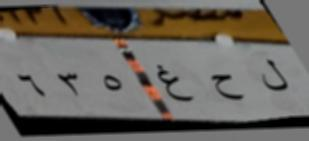3: (55, 66, 82, 105)
5: (101, 69, 123, 95)
6: (15, 70, 48, 103)
7aa: (210, 70, 248, 108)
ghayn: (154, 59, 195, 105)
laam: (258, 54, 290, 99)
